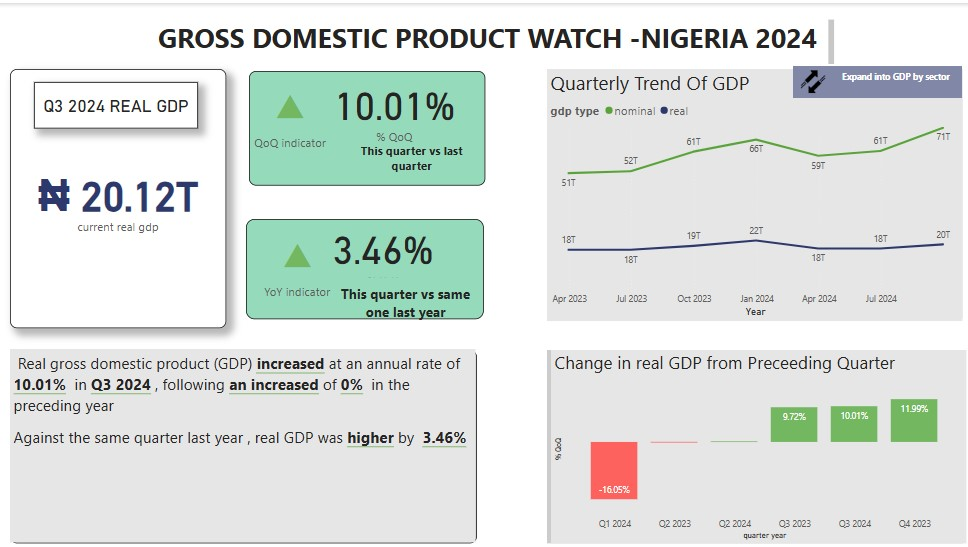

Layout of this report page (visuals, bound fields, positions):
{"tool":"powerbi","page":{"name":"overview","canvas":[1366,768],"ordinal":0},"visuals":[{"type":"textbox","box":[200,18,970,74],"z":0},{"type":"image","title":"expand button","box":[1107,88.3,56,44],"z":0,"group":"g2"},{"type":"textbox","box":[348,96,330,160],"z":0,"group":"g4"},{"type":"lineChart","fields":{"Y":["measure.current real gdp"],"Category":["date table.quarter year"],"Series":["gdp by activity sector.activity sector others"]},"box":[714,96,642,662],"z":0,"group":"g3"},{"type":"textbox","box":[344,302,332,140],"z":0,"group":"g1"},{"type":"textbox","title":"expand text","box":[1159,88.3,184,42],"z":1000,"group":"g2"},{"type":"image","title":"close button","box":[1318,92,48,32],"z":1000,"group":"g3"},{"type":"card","fields":{"Values":["measure.% QoQ"]},"box":[422,94,258,110],"z":1000,"group":"g4"},{"type":"card","fields":{"Values":["measure.current quarter text"]},"box":[48,110.8,228.9,64.6],"z":1000},{"type":"card","fields":{"Values":["measure.% YoY"]},"box":[394,310,282,78],"z":1000,"group":"g1"},{"type":"textbox","box":[764,92,580,348],"z":2000},{"type":"card","fields":{"Values":["measure.QoQ indicator"]},"box":[342,96,126,122],"z":2000,"group":"g4"},{"type":"card","fields":{"Values":["measure.YoY indicator"]},"box":[342,310,146,110],"z":2000,"group":"g1"},{"type":"textbox","box":[496,190.7,158.3,65],"z":3000,"group":"g4"},{"type":"textbox","box":[452,388,228,60],"z":3000,"group":"g1"},{"type":"textbox","box":[14,484,652,270],"z":3000},{"type":"textbox","box":[764,484,580,270],"z":4000},{"type":"lineChart","title":"Quarterly Trend Of GDP","fields":{"Y":["measure.gdp"],"Category":["date table.date.Variation.Date Hierarchy.Year","date table.date.Variation.Date Hierarchy.Quarter","date table.date.Variation.Date Hierarchy.Month","date table.date.Variation.Date Hierarchy.Day"],"Series":["GDP.gdp type"]},"box":[764,92,580,352],"z":5000},{"type":"card","fields":{"Values":["measure.current real gdp"]},"box":[14,92,302,362],"z":6000},{"type":"group","id":"g1","title":"Group 2","box":[342,302,338,146],"z":7000},{"type":"clusteredColumnChart","title":"Change in real GDP from Preceeding Quarter","fields":{"Category":["date table.quarter year"],"Y":["measure.% QoQ"]},"box":[770,484,580,270],"z":8000},{"type":"textbox","box":[13.3,483.3,650,270],"z":9000},{"type":"group","id":"g2","title":"arrow up and gown group","box":[1107,88.3,236,44],"z":10000},{"type":"group","id":"g3","title":"Group 3","box":[714,92,652,666],"z":11000},{"type":"group","id":"g4","title":"Group 1","box":[342,94,338,162],"z":12000}]}

Visuals, with their boxes in screenshot pixels (x1, y1, x2, y2), scaled from the page's 1366x768 canvas onto the 968x547 screenshot:
textbox: bbox=(142, 13, 829, 66)
"expand button" image: bbox=(784, 63, 824, 94)
textbox: bbox=(247, 68, 480, 182)
lineChart - measure.current real gdp x date table.quarter year: bbox=(506, 68, 961, 540)
textbox: bbox=(244, 215, 479, 315)
"expand text" textbox: bbox=(821, 63, 952, 93)
"close button" image: bbox=(934, 66, 967, 88)
card - measure.% QoQ: bbox=(299, 67, 482, 145)
card - measure.current quarter text: bbox=(34, 79, 196, 125)
card - measure.% YoY: bbox=(279, 221, 479, 276)
textbox: bbox=(541, 66, 952, 313)
card - measure.QoQ indicator: bbox=(242, 68, 332, 155)
card - measure.YoY indicator: bbox=(242, 221, 346, 299)
textbox: bbox=(351, 136, 464, 182)
textbox: bbox=(320, 276, 482, 319)
textbox: bbox=(10, 345, 472, 537)
textbox: bbox=(541, 345, 952, 537)
"Quarterly Trend Of GDP" lineChart: bbox=(541, 66, 952, 316)
card - measure.current real gdp: bbox=(10, 66, 224, 323)
"Group 2" group: bbox=(242, 215, 482, 319)
"Change in real GDP from Preceeding Quarter" clusteredColumnChart: bbox=(546, 345, 957, 537)
textbox: bbox=(9, 344, 470, 537)
"arrow up and gown group" group: bbox=(784, 63, 952, 94)
"Group 3" group: bbox=(506, 66, 967, 540)
"Group 1" group: bbox=(242, 67, 482, 182)
